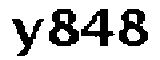4: (80, 7, 114, 52)
8: (118, 7, 153, 51), (48, 6, 79, 53)
y: (9, 16, 44, 60)
